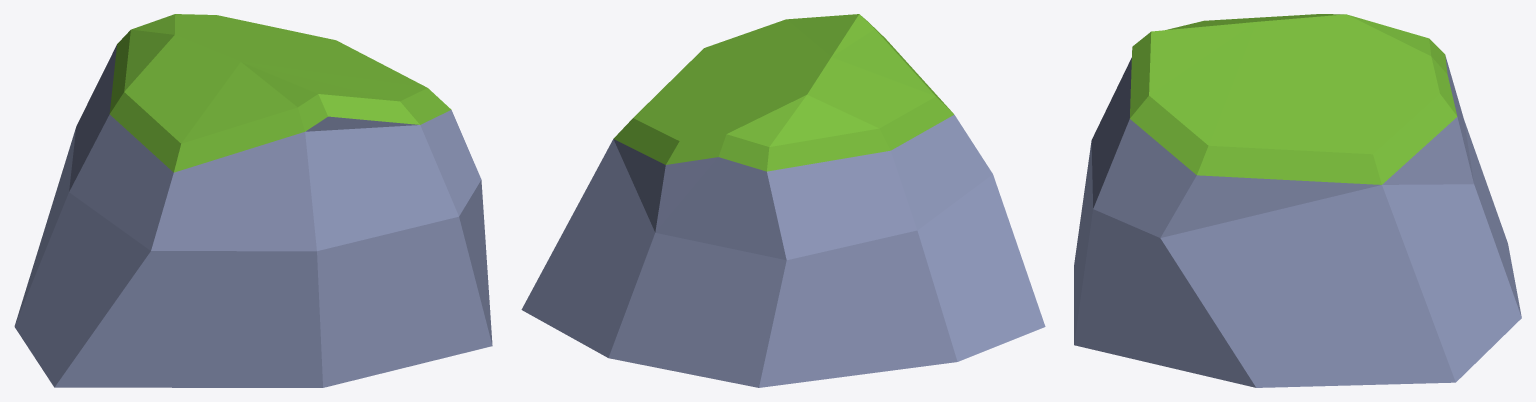
The model's file is Rock_41_1.fbx.
3 renders of one model, left to right at view 1: azimuth 30°, elevation 25°; view 2: azimuth 150°, elevation 25°; view 3: azimuth 270°, elevation 25°, orthographic. The views are drawn at different scales.
Parts seen in each view (by area): view 1: Rock_41_1; view 2: Rock_41_1; view 3: Rock_41_1.
Boxes of the visible parts, <box> form: Rock_41_1: <box>14,14,492,387</box>; Rock_41_1: <box>521,14,1045,387</box>; Rock_41_1: <box>1074,14,1521,387</box>.
Size of the model in its own units: 2.31 by 1.27 by 2.04.
